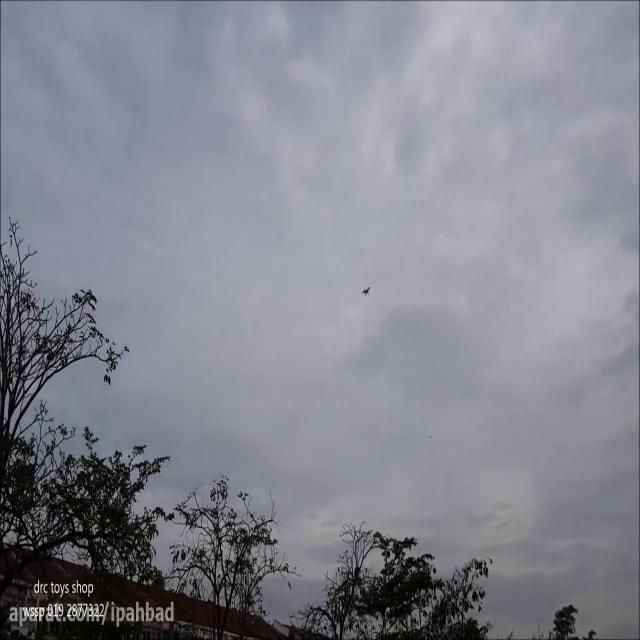drone: (361, 282, 372, 297)
